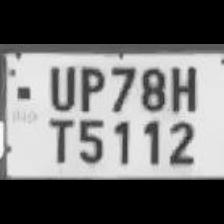1: (106, 116, 136, 166), (136, 116, 162, 166)
2: (162, 116, 198, 168)
5: (72, 116, 106, 164)
7: (105, 61, 135, 114)
8: (136, 62, 166, 114)
H: (164, 62, 200, 114)
P: (73, 62, 105, 114)
T: (42, 114, 74, 164)
U: (42, 61, 78, 112)
